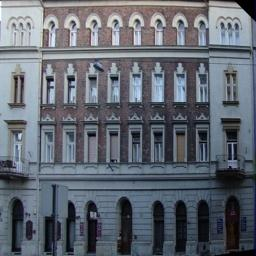building: (40, 0, 213, 256)
